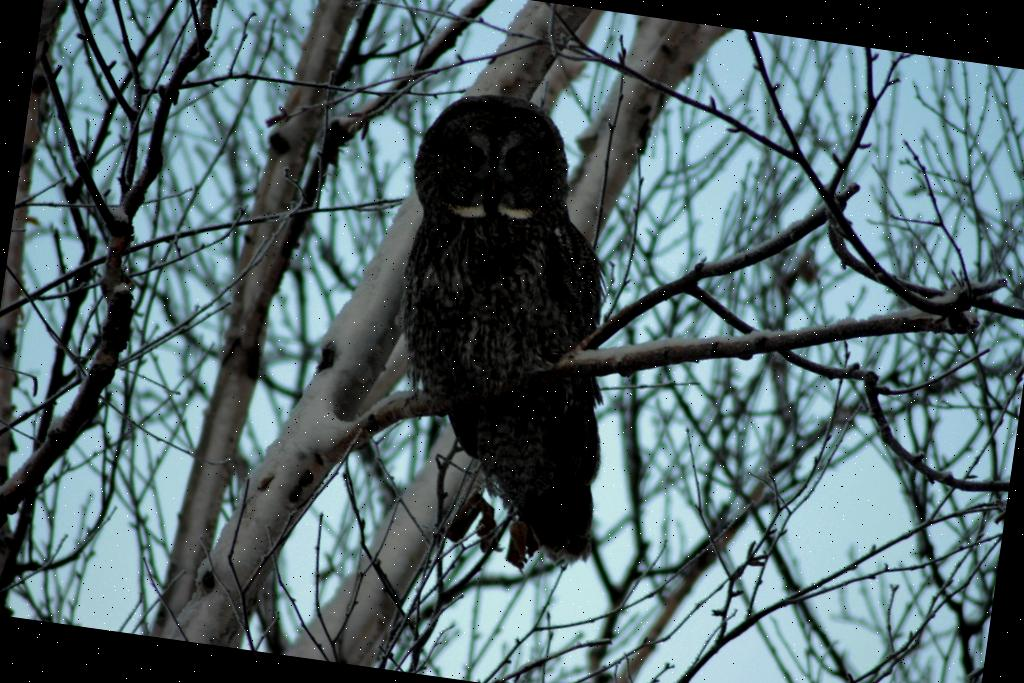Owl: (360, 84, 656, 570)
